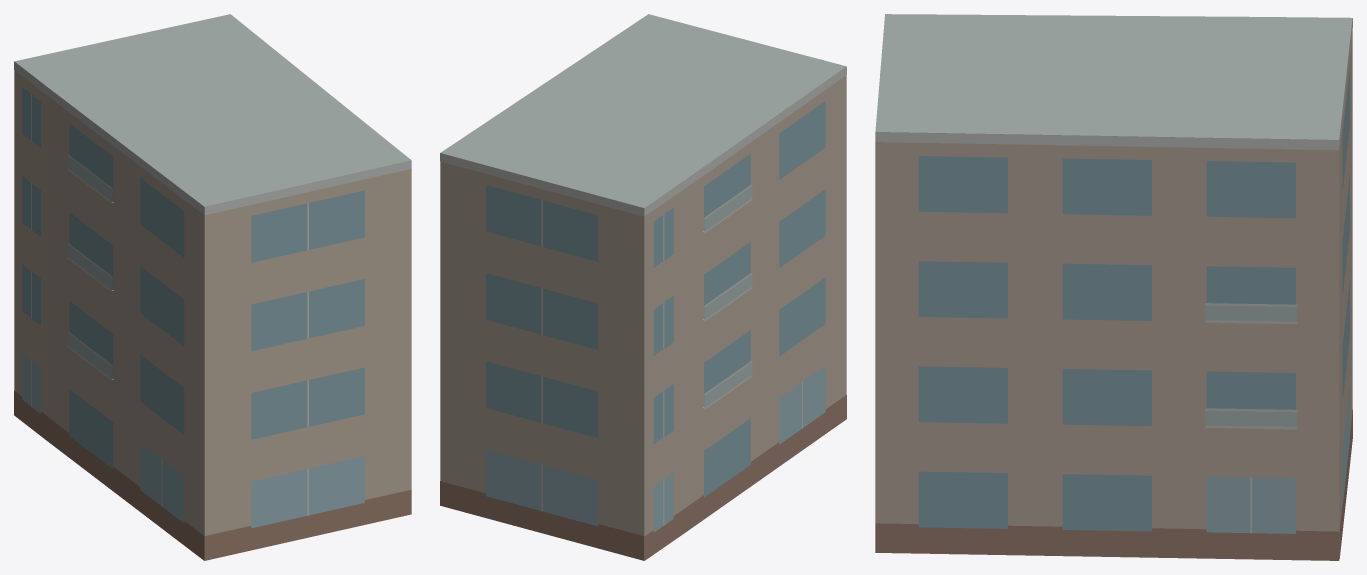
The model's file is survey-upis-33041986.glb.
The picture shows the model from 3 angles, left to right: view 1: azimuth 30°, elevation 25°; view 2: azimuth 150°, elevation 25°; view 3: azimuth 270°, elevation 25°; orthographic projection. The views are drawn at different scales.
Parts seen in each view (by area): view 1: survey-upis-33041986.tmp; view 2: survey-upis-33041986.tmp; view 3: survey-upis-33041986.tmp.
Boxes of the visible parts, bbox=[...] form: survey-upis-33041986.tmp: bbox=[14, 14, 411, 560]; survey-upis-33041986.tmp: bbox=[440, 14, 846, 560]; survey-upis-33041986.tmp: bbox=[875, 14, 1352, 560].
Size of the model in its own units: 6.49 by 10.1 by 10.39.
